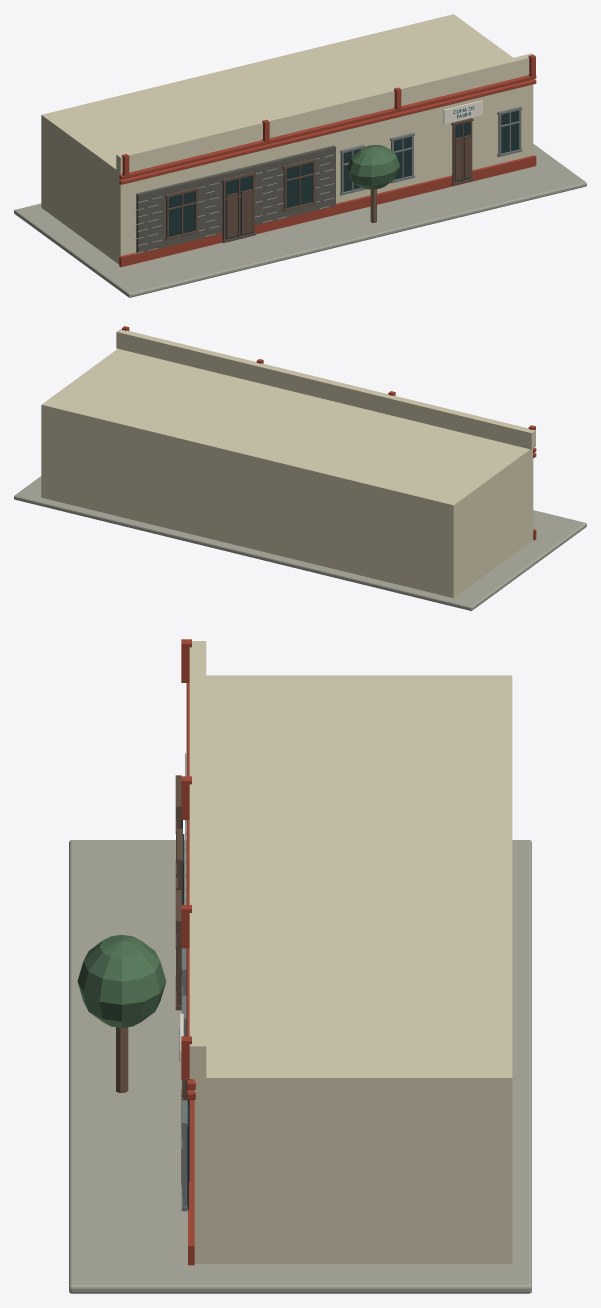
Rendered from gms-28.glb.
3 views of the same model, one above another, from view 1: azimuth 30°, elevation 25°; view 2: azimuth 150°, elevation 25°; view 3: azimuth 270°, elevation 25° (orthographic). The views are drawn at different scales.
Visible parts, largest first — view 1: Long single-floor liceo, Context plinth, Terracotta plinth, Left access stone-faced section, Left wooden central entrance jamb, Left wooden central entrance recess, Broadleaf canopy, Right cream section window jamb, Liceo irregular stone joint, Cuna de Fabini plaque; view 2: Long single-floor liceo, Context plinth; view 3: Long single-floor liceo, Context plinth, Broadleaf canopy, Terracotta plinth, Left wooden central entrance jamb, Right cream section window jamb, Native trunk.
Boxes of the visible parts, x1=… form: Long single-floor liceo: x1=41, y1=14, x2=533, y2=264; Context plinth: x1=14, y1=144, x2=586, y2=297; Terracotta plinth: x1=119, y1=54, x2=536, y2=267; Left access stone-faced section: x1=136, y1=145, x2=335, y2=253; Left wooden central entrance jamb: x1=165, y1=118, x2=473, y2=242; Left wooden central entrance recess: x1=169, y1=110, x2=518, y2=239; Broadleaf canopy: x1=347, y1=145, x2=399, y2=189; Right cream section window jamb: x1=340, y1=106, x2=522, y2=195; Liceo irregular stone joint: x1=133, y1=154, x2=334, y2=254; Cuna de Fabini plaque: x1=443, y1=100, x2=482, y2=124; Long single-floor liceo: x1=41, y1=329, x2=535, y2=598; Context plinth: x1=14, y1=476, x2=586, y2=610; Long single-floor liceo: x1=189, y1=641, x2=512, y2=1263; Context plinth: x1=69, y1=840, x2=531, y2=1293; Broadleaf canopy: x1=77, y1=935, x2=166, y2=1027; Terracotta plinth: x1=181, y1=639, x2=195, y2=1265; Left wooden central entrance jamb: x1=175, y1=775, x2=187, y2=1186; Right cream section window jamb: x1=181, y1=948, x2=187, y2=1211; Native trunk: x1=116, y1=1027, x2=128, y2=1092.
Size of the model in its own units: 16 by 3.85 by 7.
